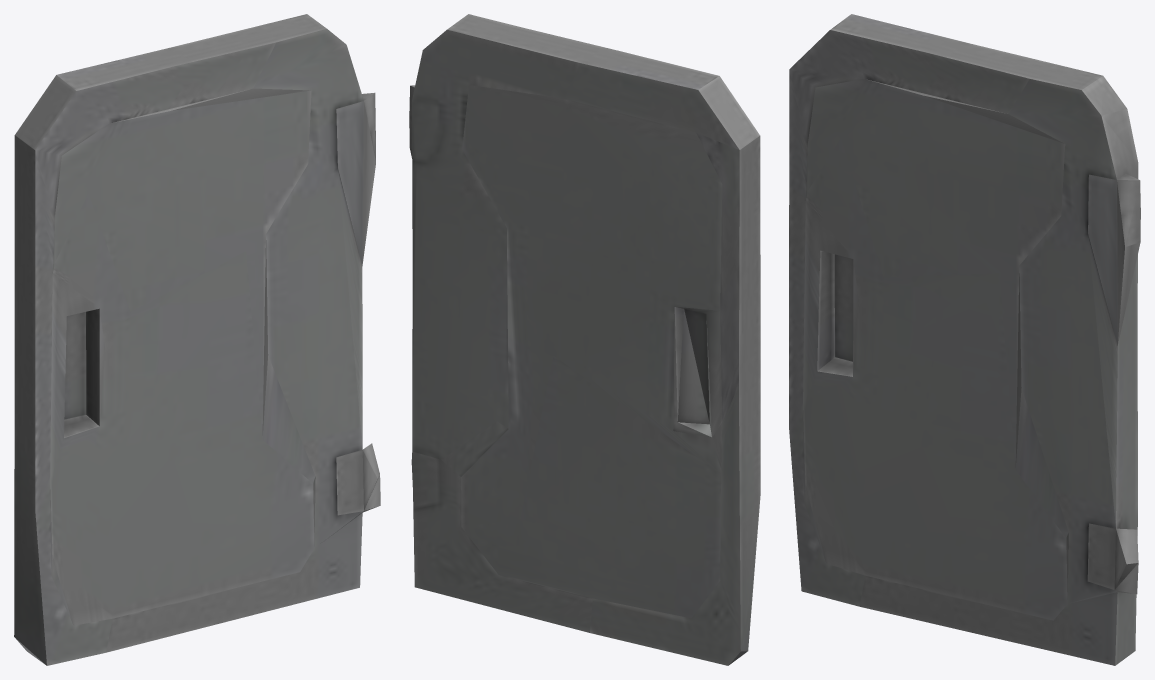
File: shared_flak_tower_compact_option__entrance_door_leaf_lod2.glb
3 views of the same model, side by side, from view 1: azimuth 30°, elevation 25°; view 2: azimuth 150°, elevation 25°; view 3: azimuth 330°, elevation 25° (orthographic).
Parts seen in each view (by area): view 1: mesh_node; view 2: mesh_node; view 3: mesh_node.
Boxes of the visible parts, box(x1,y1,x2,y2) form: mesh_node: box(14, 14, 380, 665); mesh_node: box(409, 14, 760, 665); mesh_node: box(789, 14, 1140, 665).
Bounding box in the file's own units: 1.4 × 2.19 × 0.169.
Materials: 1 (1 with a texture image).
